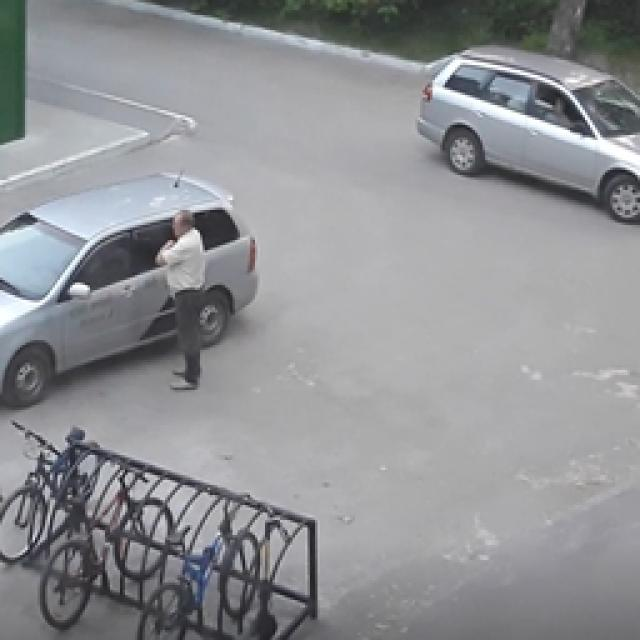person: (155, 210, 202, 388), (550, 110, 568, 122), (550, 95, 562, 109)
